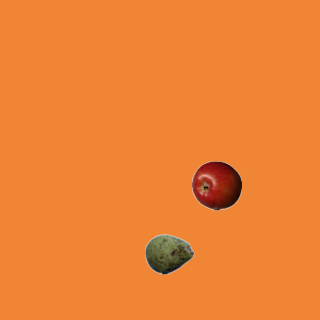Apple Braeburn: (191, 160, 241, 210)
Pear Stone: (144, 229, 194, 279)
